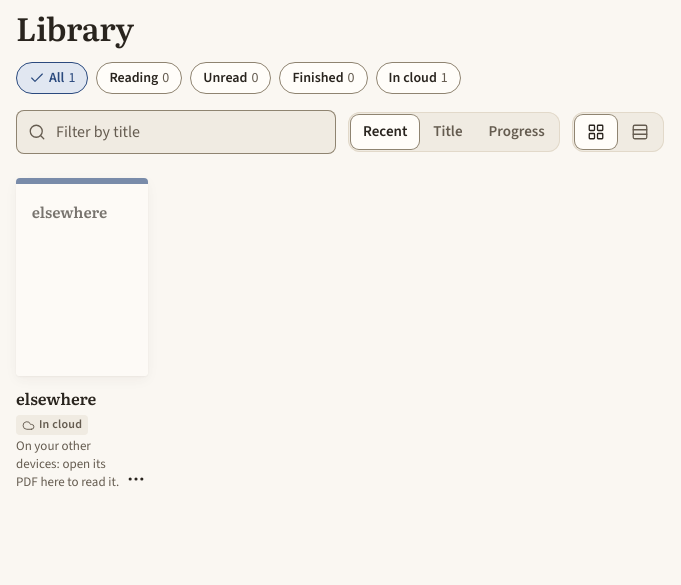
Scenario: Library › a book that is only on other devices can only be deleted everywhere
What coordinates should you click on to do the following:
click the button named "More for elsewhere"
I would click on:
 (136, 479)
Its box is [116, 459, 156, 499].
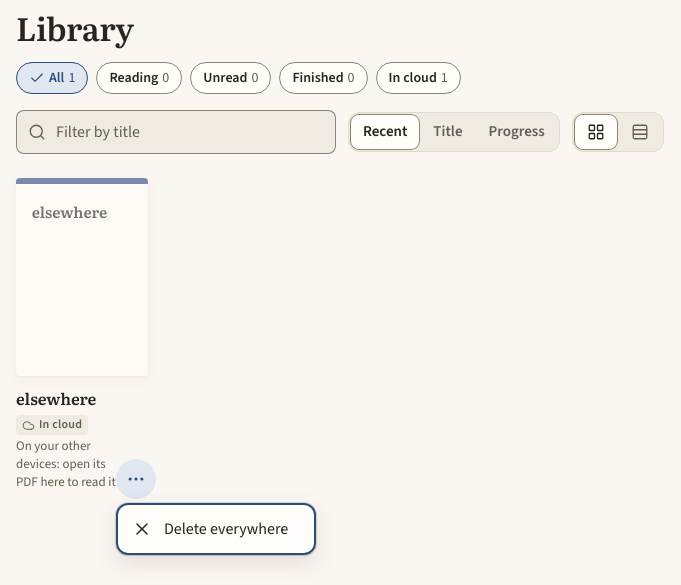
Now the menu item "Delete everywhere" is shown, box [120, 507, 312, 551]
